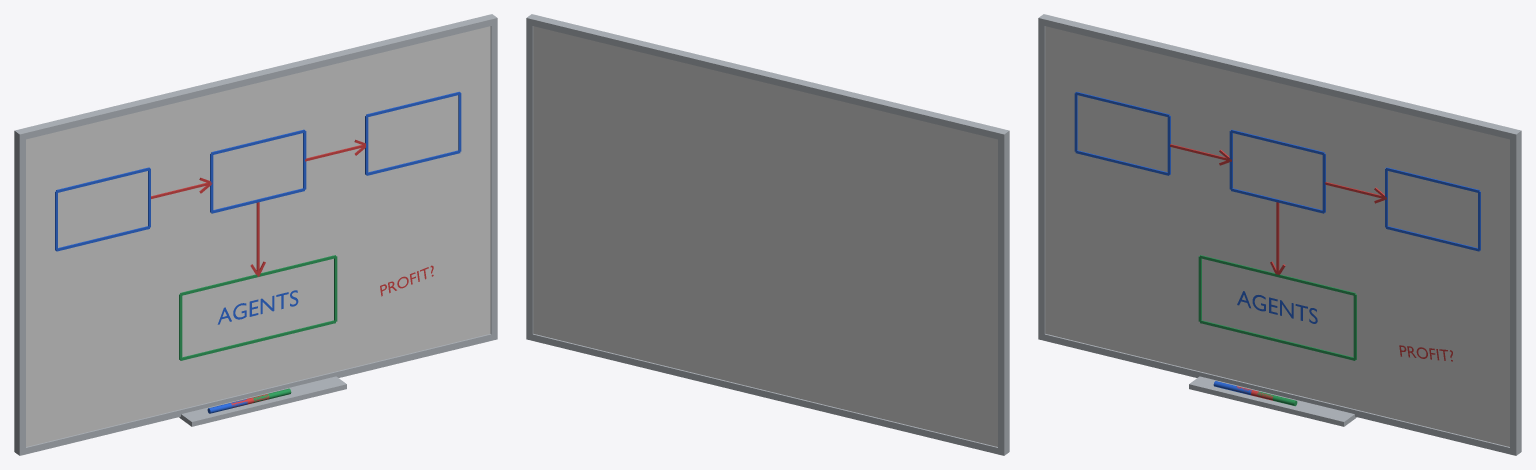
The model's file is whiteboard.fbx.
The picture shows the model from 3 angles, left to right: view 1: azimuth 30°, elevation 25°; view 2: azimuth 150°, elevation 25°; view 3: azimuth 330°, elevation 25°; orthographic projection.
Parts seen in each view (by area): view 1: Whiteboard, Diagram; view 2: Whiteboard; view 3: Whiteboard, Diagram.
Boxes of the visible parts, x1=… form: Whiteboard: x1=14, y1=14, x2=497, y2=455; Diagram: x1=55, y1=91, x2=461, y2=360; Whiteboard: x1=526, y1=14, x2=1009, y2=455; Whiteboard: x1=1038, y1=14, x2=1521, y2=455; Diagram: x1=1074, y1=91, x2=1480, y2=361.
Size of the model in its own units: 1.54 by 0.9975 by 0.09.
